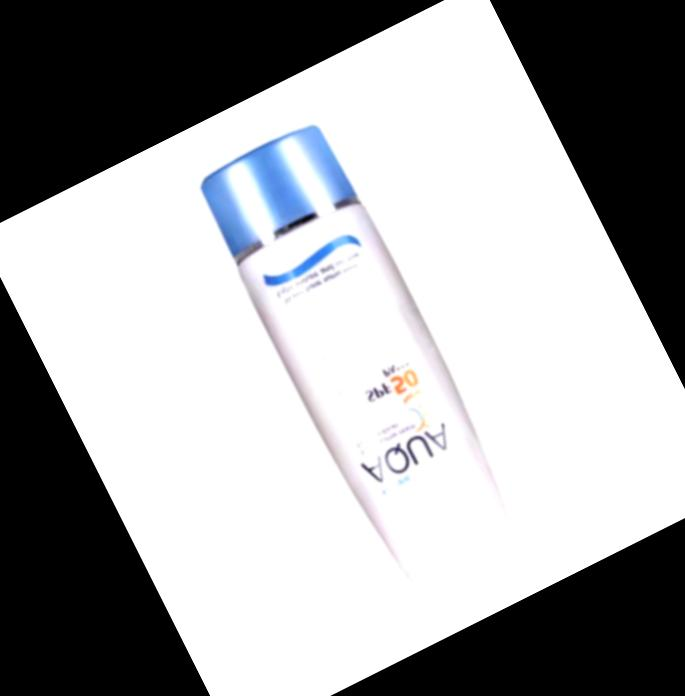cosmetic: (192, 115, 534, 601)
